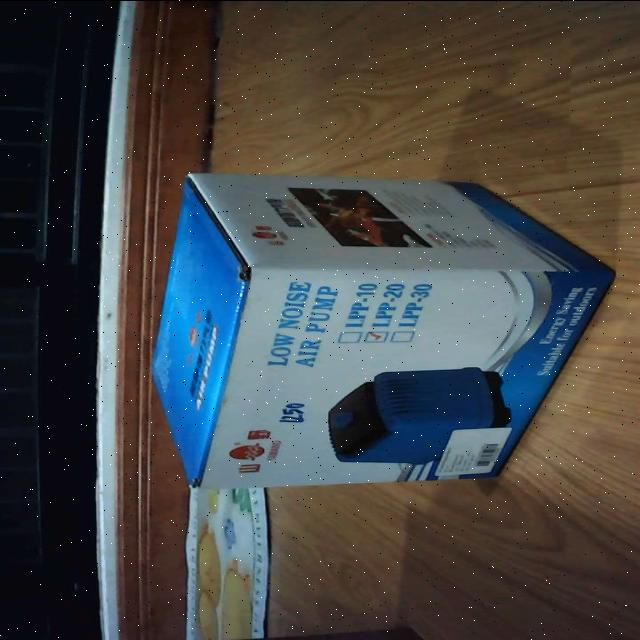YAMANO_LPP_20: (125, 160, 631, 494)
